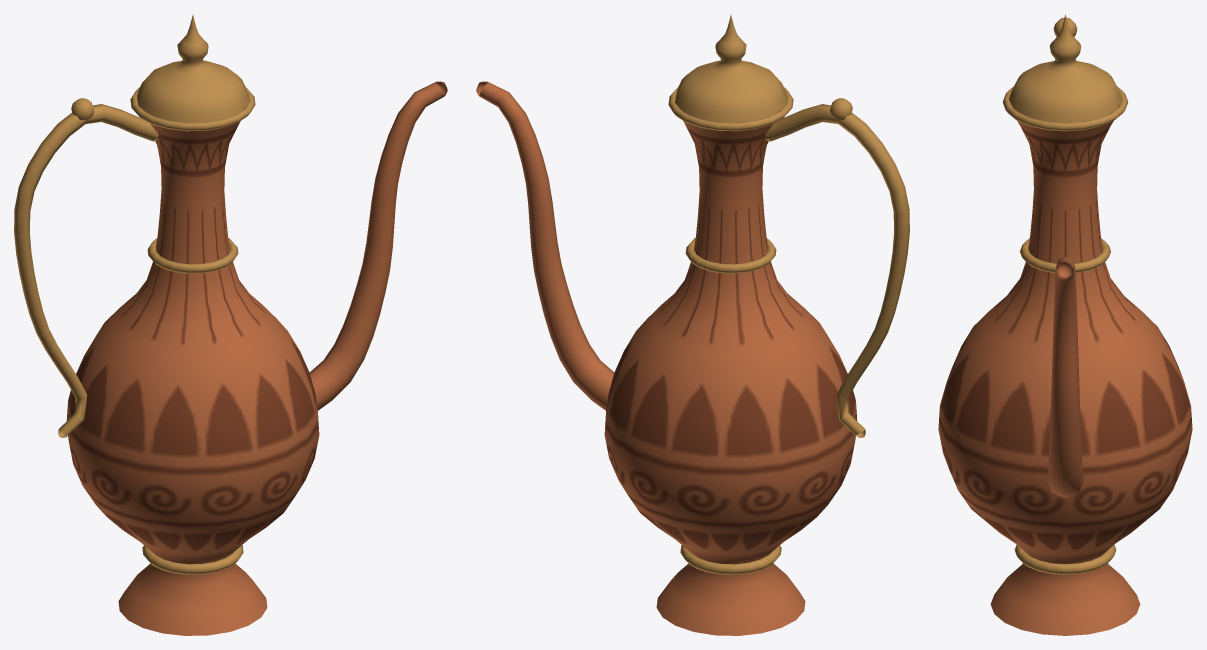
File: prop-ewer.glb
3 views of the same model, side by side, from view 1: azimuth 30°, elevation 25°; view 2: azimuth 150°, elevation 25°; view 3: azimuth 270°, elevation 25° (orthographic).
Visible parts, largest first — view 1: piece_EngravedCopper, piece_Brass, piece_Copper; view 2: piece_EngravedCopper, piece_Brass, piece_Copper; view 3: piece_EngravedCopper, piece_Brass, piece_Copper.
Part boxes in pixels (x1,y1,x2,y2): piece_EngravedCopper: (66, 121, 319, 635); piece_Brass: (14, 15, 255, 574); piece_Copper: (309, 81, 447, 410); piece_EngravedCopper: (604, 121, 857, 635); piece_Brass: (668, 15, 909, 574); piece_Copper: (476, 81, 614, 410); piece_EngravedCopper: (938, 121, 1192, 635); piece_Brass: (1002, 14, 1128, 574); piece_Copper: (1046, 256, 1084, 497).
Bounding box in the file's own units: 0.3322 × 0.435 × 0.1697.
Materials: 3 (1 with a texture image).
